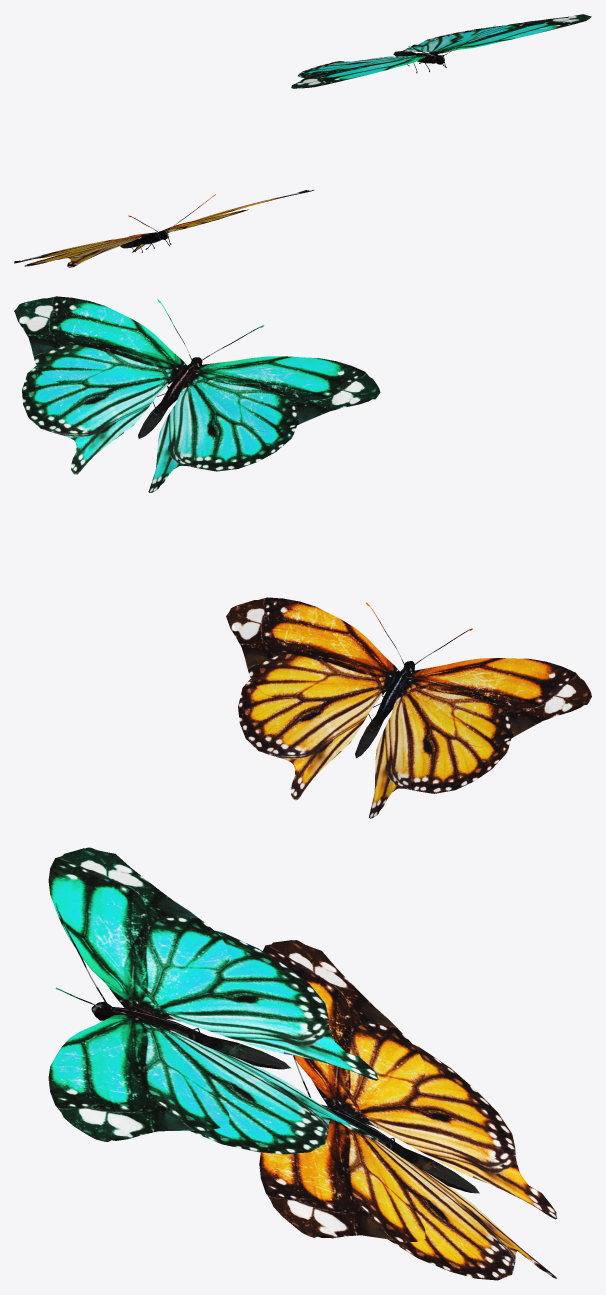
File: butterflies.glb
The picture shows the model from 3 angles, top to bottom: view 1: azimuth 30°, elevation 25°; view 2: azimuth 150°, elevation 25°; view 3: azimuth 270°, elevation 25°; orthographic projection. The views are drawn at different scales.
Visible parts, largest first — view 1: pasted__Wings_Top1_Wings_Top1, pasted__Wings_Side1_Wings_Side1, Wings_Side1_Wings_Side1, Wings_Top1_Wings_Top1, Body, pasted__Body; view 2: Wings_Top1_Wings_Top1, pasted__Wings_Top1_Wings_Top1, Wings_Side1_Wings_Side1, pasted__Wings_Side1_Wings_Side1, Body, pasted__Body; view 3: pasted__Wings_Top1_Wings_Top1, Wings_Top1_Wings_Top1, pasted__Wings_Side1_Wings_Side1, Wings_Side1_Wings_Side1, pasted__Body, Body.
Part boxes in pixels (bbox=[...]): pasted__Wings_Top1_Wings_Top1: bbox=[291, 14, 591, 88]; pasted__Wings_Side1_Wings_Side1: bbox=[298, 25, 504, 77]; Wings_Side1_Wings_Side1: bbox=[24, 209, 248, 267]; Wings_Top1_Wings_Top1: bbox=[14, 190, 313, 263]; Body: bbox=[120, 194, 215, 252]; pasted__Body: bbox=[393, 25, 495, 73]; Wings_Top1_Wings_Top1: bbox=[226, 597, 591, 747]; pasted__Wings_Top1_Wings_Top1: bbox=[14, 296, 380, 432]; Wings_Side1_Wings_Side1: bbox=[238, 679, 510, 818]; pasted__Wings_Side1_Wings_Side1: bbox=[22, 365, 296, 492]; Body: bbox=[355, 602, 472, 758]; pasted__Body: bbox=[138, 299, 264, 438]; pasted__Wings_Top1_Wings_Top1: bbox=[48, 847, 229, 1141]; Wings_Top1_Wings_Top1: bbox=[259, 940, 425, 1242]; pasted__Wings_Side1_Wings_Side1: bbox=[139, 930, 378, 1154]; Wings_Side1_Wings_Side1: bbox=[343, 1044, 557, 1280]; pasted__Body: bbox=[55, 902, 290, 1069]; Body: bbox=[293, 1055, 479, 1193].
Size of the model in its own units: 300 by 144 by 127.
2 materials, 2 textured.
